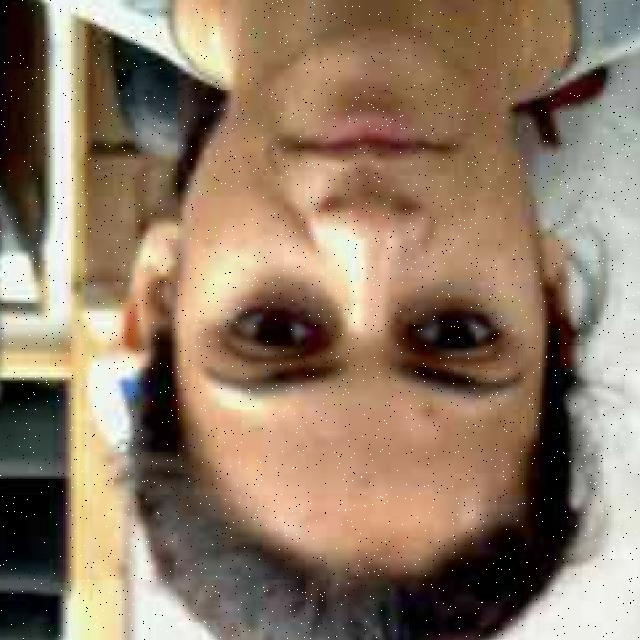puffy_eyes: (261, 288, 344, 347), (393, 284, 478, 339)
